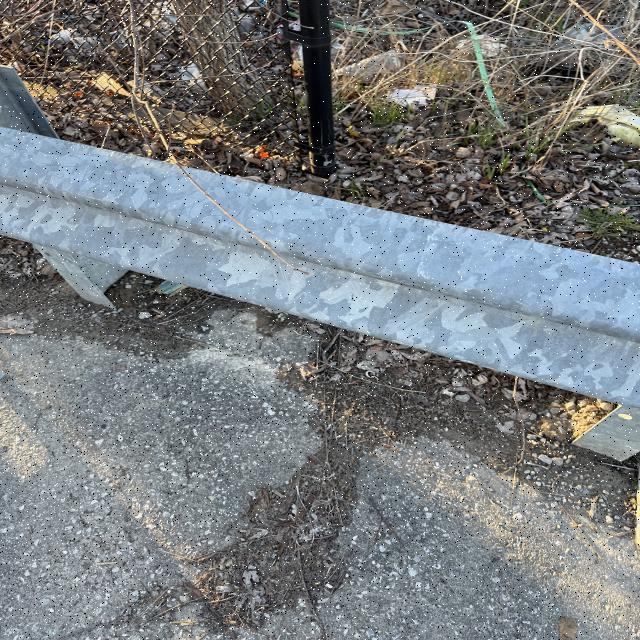Guard rail: (7, 103, 608, 374)
